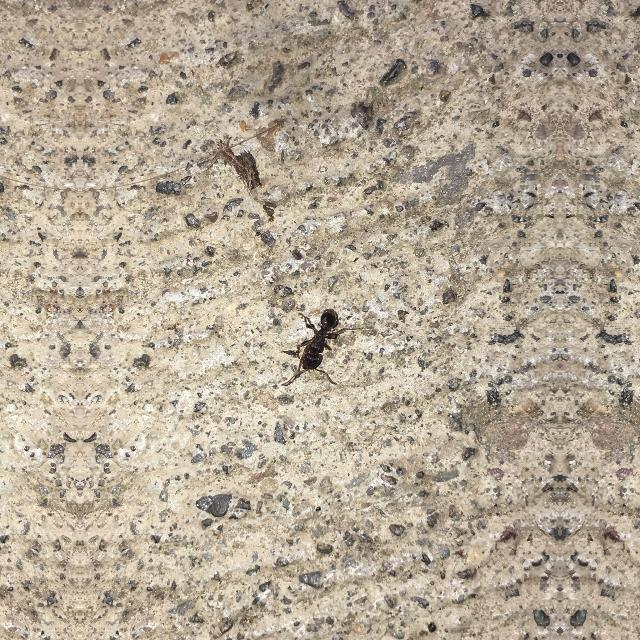Tetramorium: (286, 288, 358, 389)
